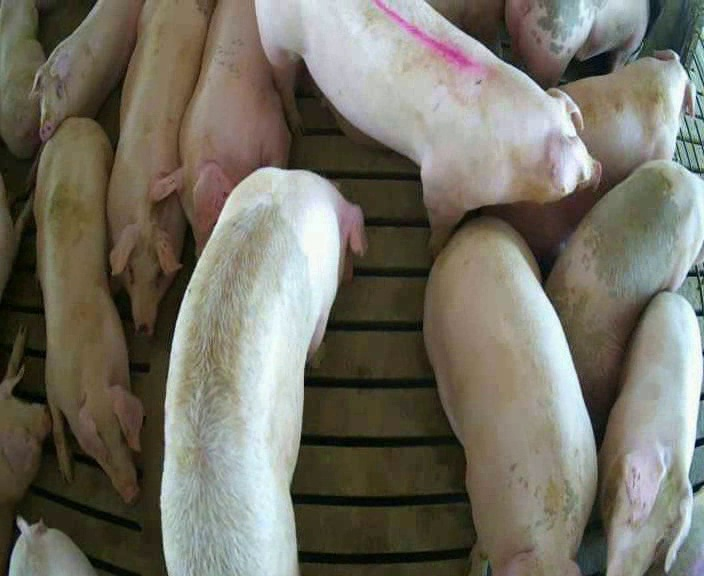pig: (256, 3, 599, 251), (161, 167, 365, 574), (424, 217, 596, 574), (481, 51, 692, 267), (546, 161, 703, 428), (34, 118, 142, 502), (151, 2, 290, 253), (107, 2, 212, 333), (599, 292, 701, 574), (24, 2, 142, 191), (505, 1, 649, 87), (0, 326, 50, 503)
